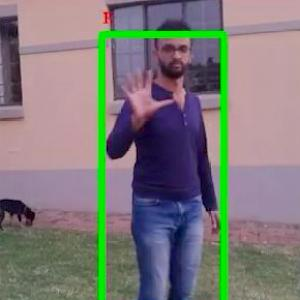follow_hand: (116, 60, 175, 128)
